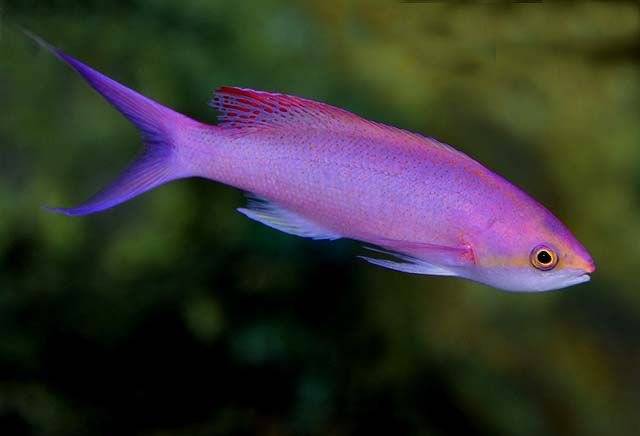fish: (14, 24, 596, 293)
